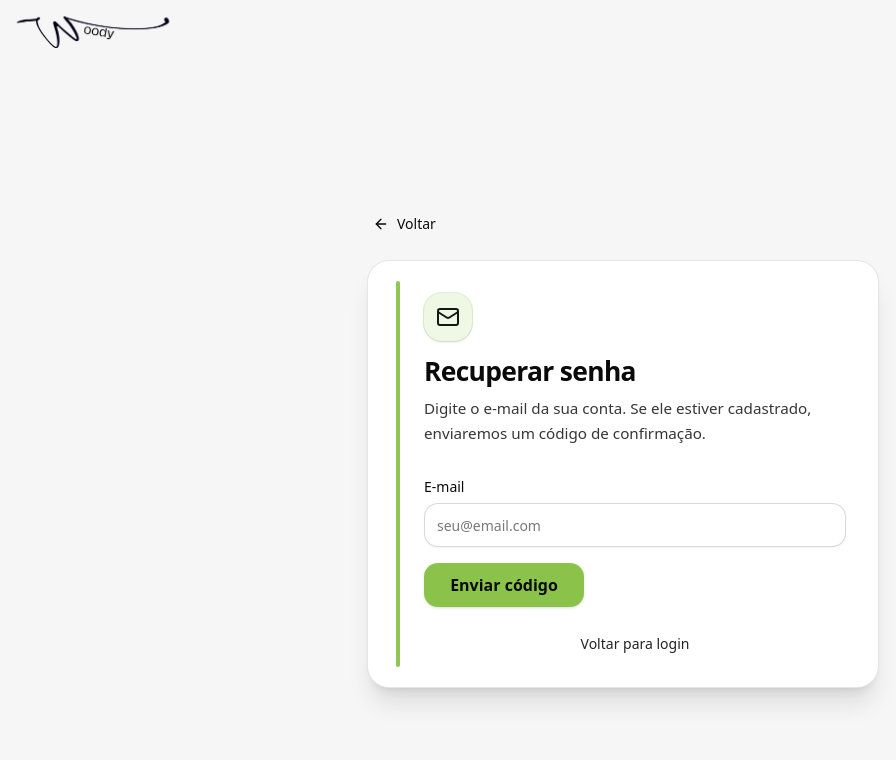
it: ForgotPasswordFlow › 429 na solicitação mostra mensagem amigável
The width and height of the screenshot is (896, 760).
In the field labelled "E-mail": (635, 525) [424, 503, 846, 547], type "user@example.com"
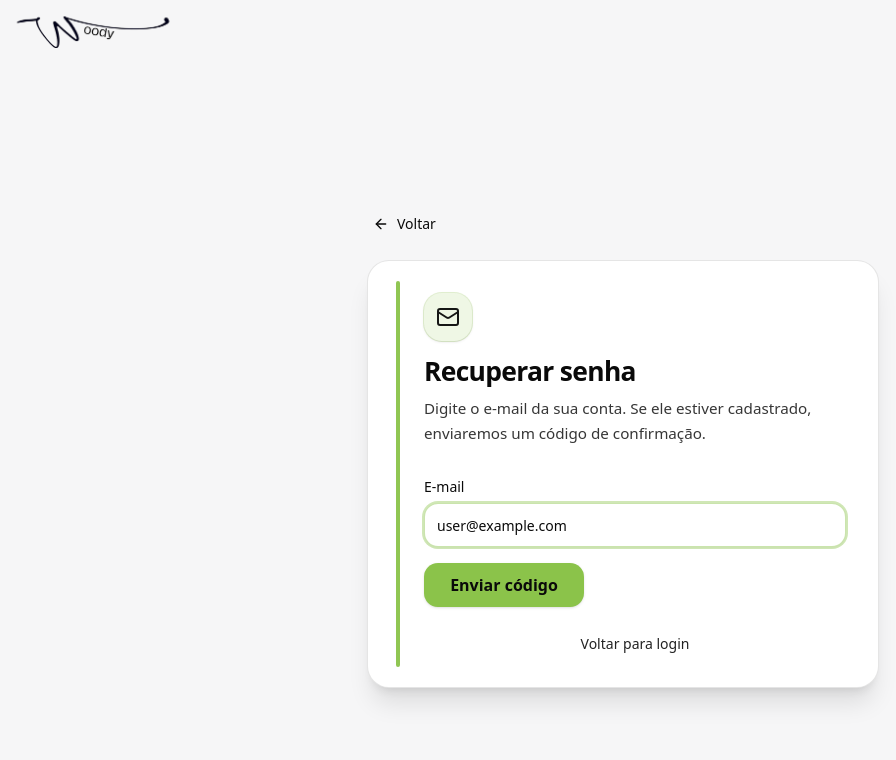
Click the button "Enviar código": click(504, 585) [424, 563, 584, 607]
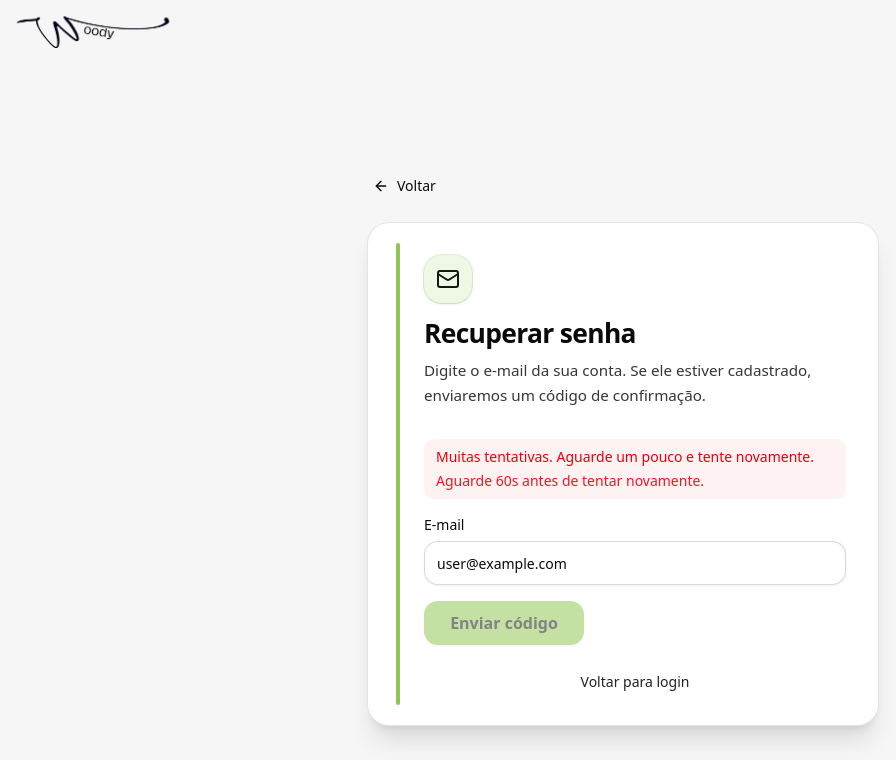
Now the message shows "Muitas tentativas", box [436, 447, 814, 466]
